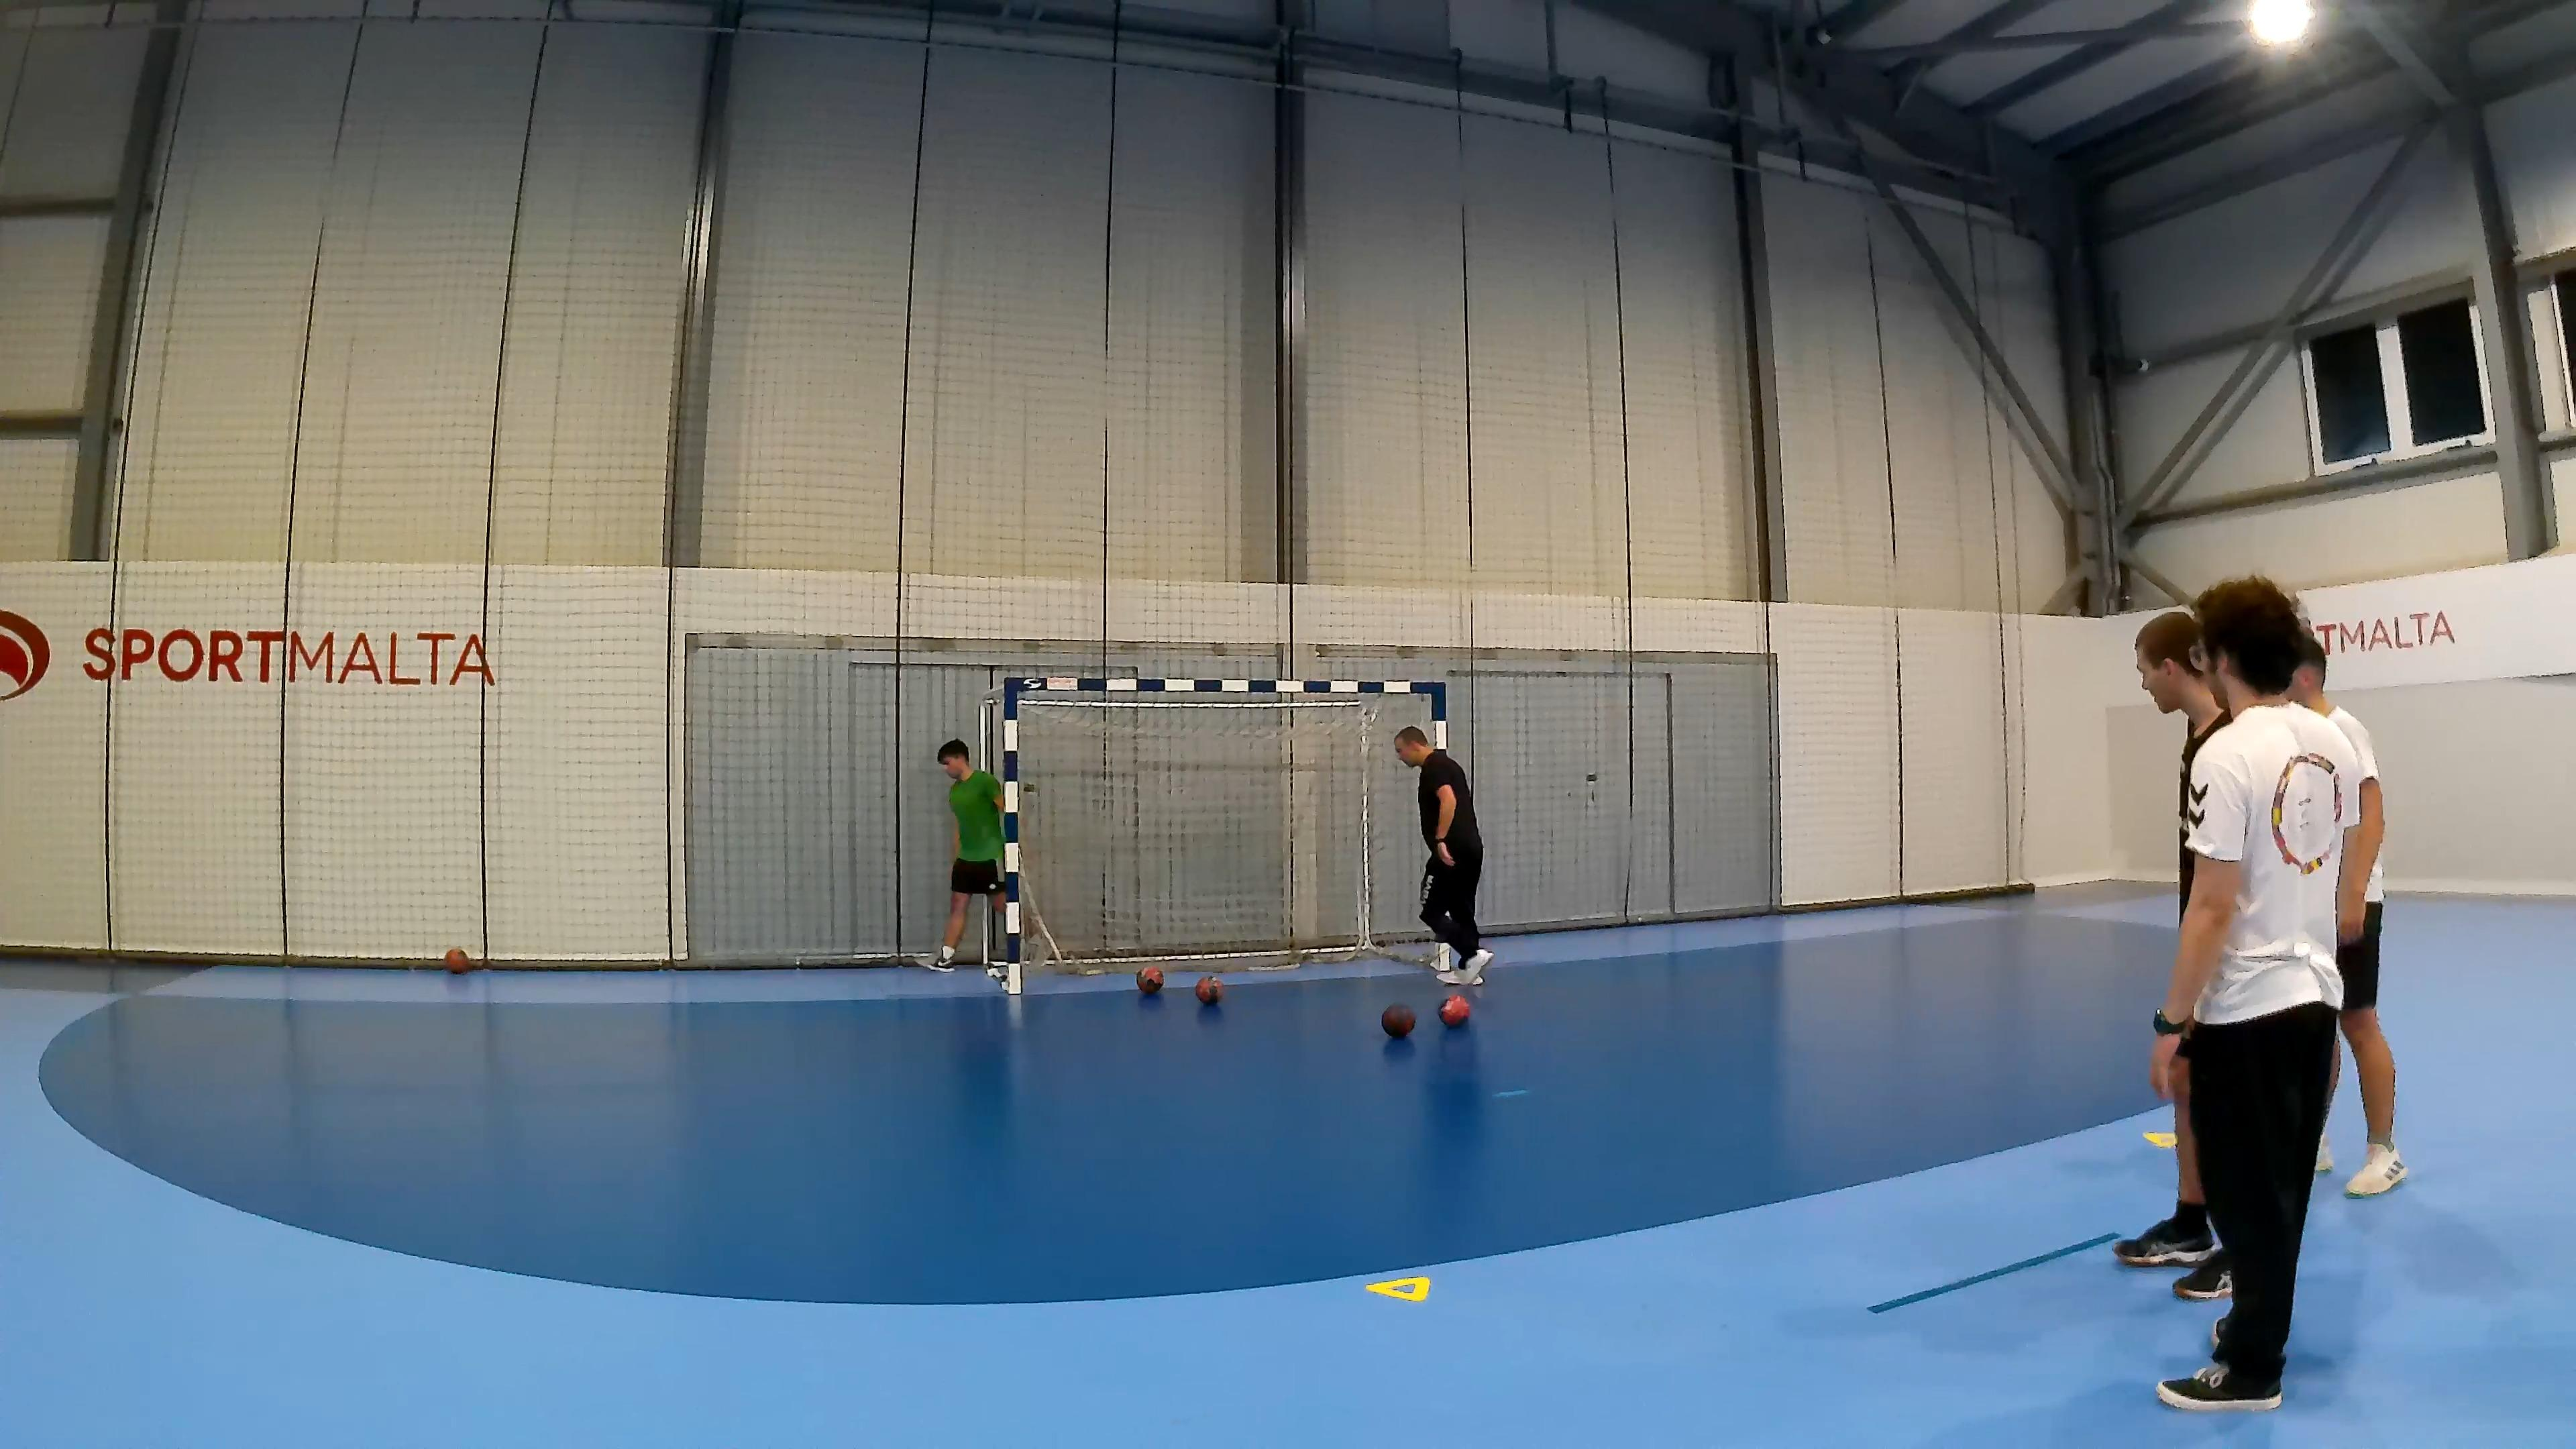handball: (1380, 1001, 1415, 1037), (1438, 994, 1468, 1024), (1136, 964, 1162, 994), (1194, 973, 1221, 1003), (444, 947, 469, 973)
